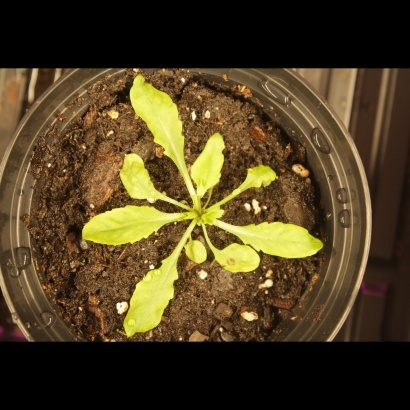leaf: (121, 248, 182, 339), (128, 71, 189, 158), (68, 204, 172, 248), (240, 217, 328, 262), (113, 152, 165, 205), (190, 124, 226, 195), (217, 239, 262, 283), (240, 156, 286, 196), (180, 236, 212, 268)
